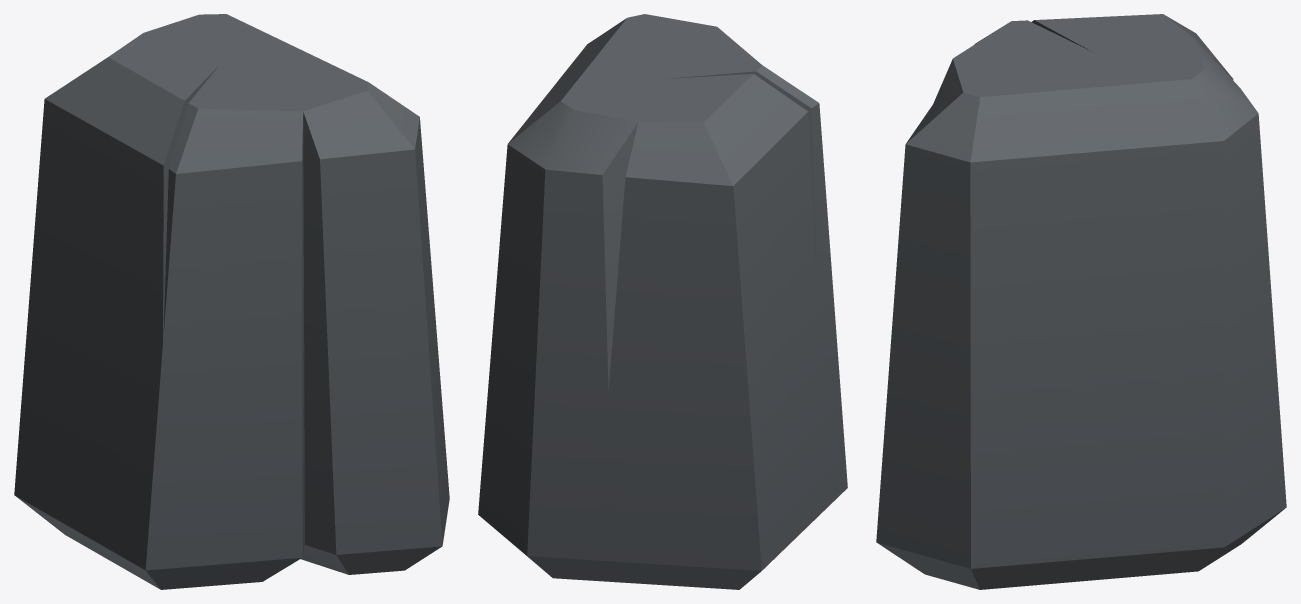
Rendered from Rock_11.fbx.
The picture shows the model from 3 angles, left to right: view 1: azimuth 30°, elevation 25°; view 2: azimuth 150°, elevation 25°; view 3: azimuth 270°, elevation 25°; orthographic projection. The views are drawn at different scales.
Visible parts, largest first — view 1: Rock_11; view 2: Rock_11; view 3: Rock_11.
Part boxes in pixels (x1,y1,x2,y2): Rock_11: [14, 14, 449, 589]; Rock_11: [478, 14, 847, 589]; Rock_11: [876, 14, 1286, 589].
Size of the model in its own units: 131 by 182 by 143.
